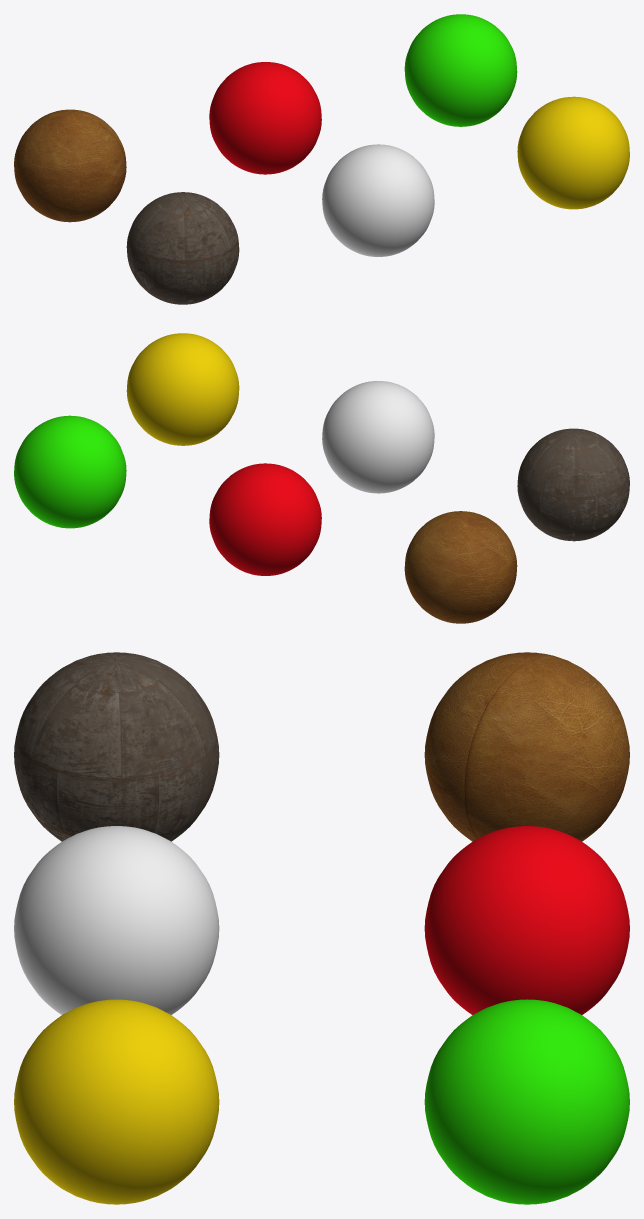
The model's file is PBR.glb.
The picture shows the model from 3 angles, top to bottom: view 1: azimuth 30°, elevation 25°; view 2: azimuth 150°, elevation 25°; view 3: azimuth 270°, elevation 25°; orthographic projection. The views are drawn at different scales.
Parts seen in each view (by area): view 1: Sphere, Sphere.001, Sphere.002, Sphere.003, Sphere.004, Sphere.005; view 2: Sphere, Sphere.001, Sphere.002, Sphere.003, Sphere.004, Sphere.005; view 3: Sphere.001, Sphere.004, Sphere, Sphere.002, Sphere.003, Sphere.005.
Boxes of the visible parts, x1,y1,x2,y2 form: Sphere: (322,144,434,256); Sphere.001: (517,96,629,209); Sphere.002: (126,192,239,304); Sphere.003: (14,109,126,222); Sphere.004: (404,14,517,126); Sphere.005: (209,62,321,174); Sphere: (322,381,434,493); Sphere.001: (126,333,239,445); Sphere.002: (517,428,629,541); Sphere.003: (404,511,517,623); Sphere.004: (14,415,126,528); Sphere.005: (209,463,321,575); Sphere.001: (14,999,219,1204); Sphere.004: (424,999,629,1204); Sphere: (14,826,219,1014); Sphere.002: (14,652,219,841); Sphere.003: (424,652,629,841); Sphere.005: (424,826,629,1014).
Bounding box in the file's own units: 5 × 1 × 3.
Materials: 6 (2 with a texture image).
